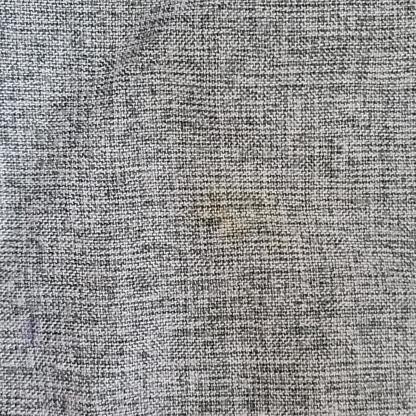spot: (198, 176, 312, 252)
